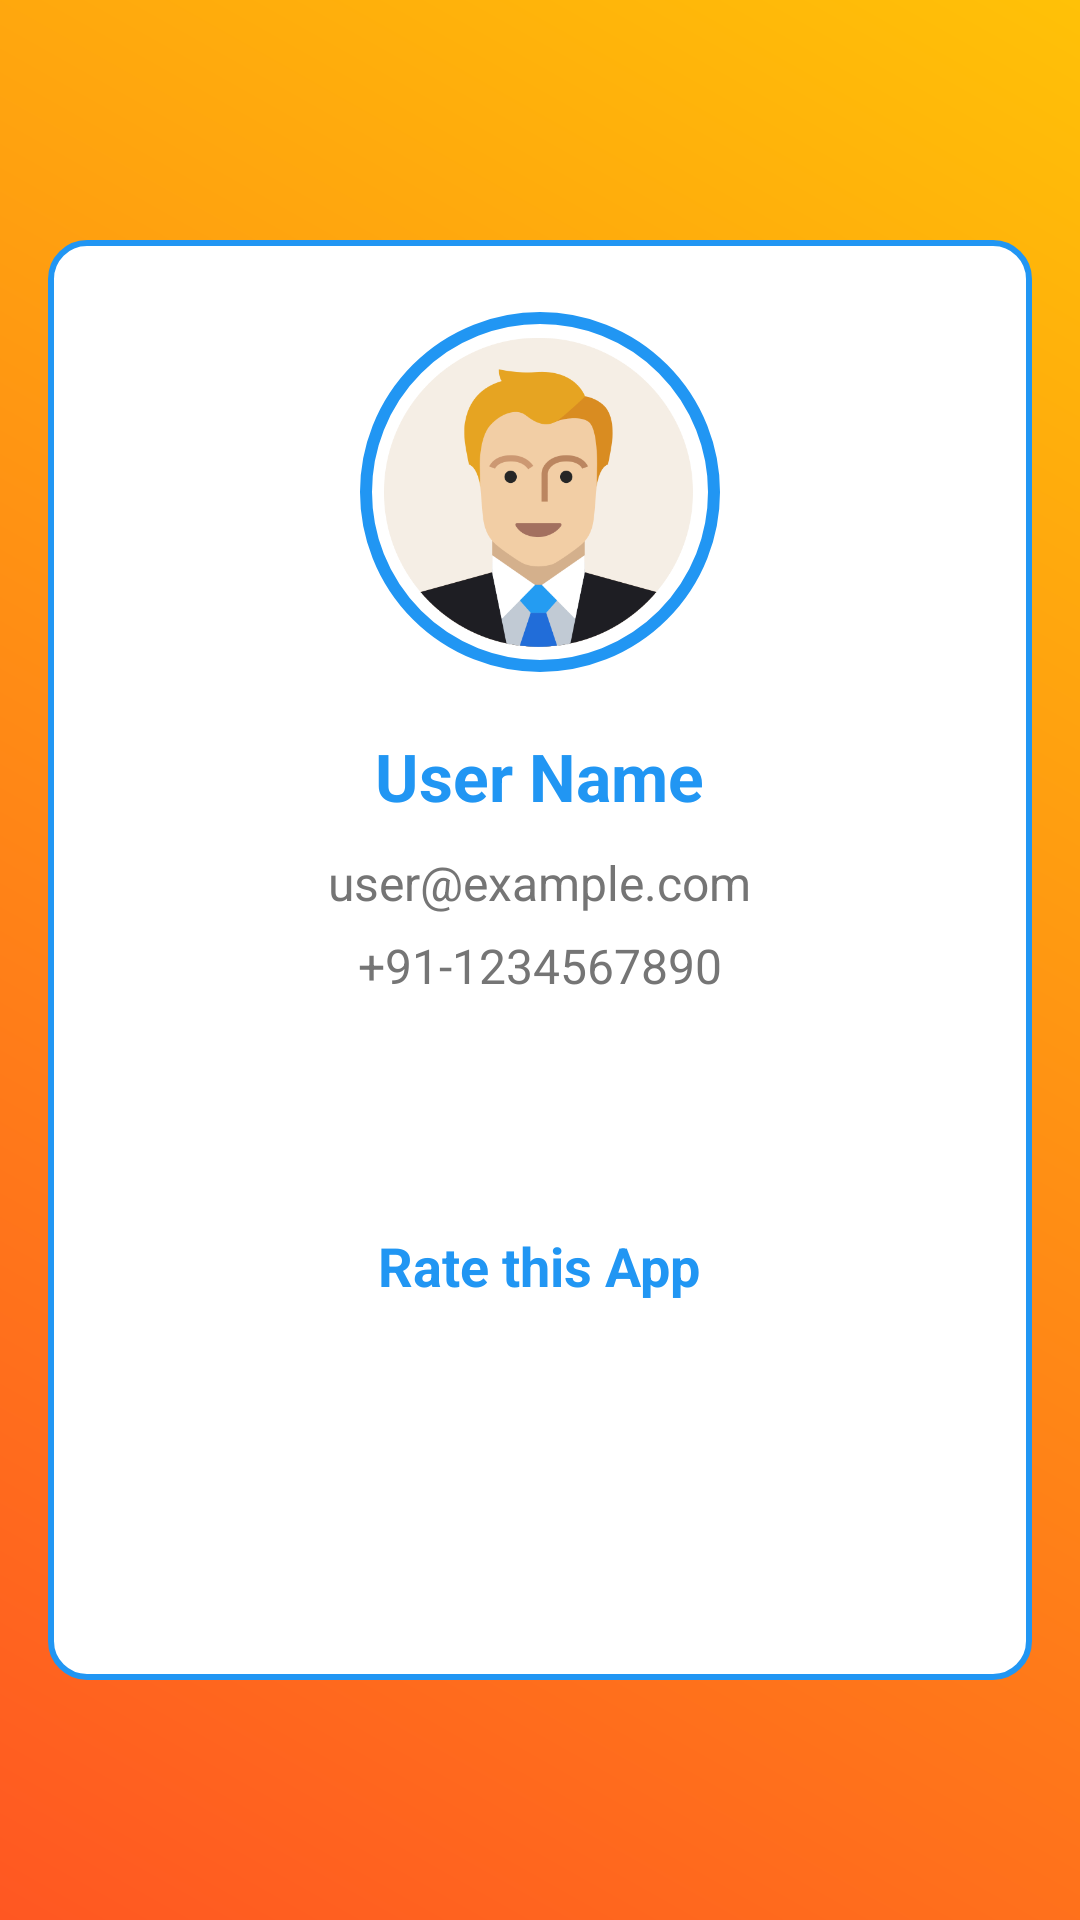

Icons on this 1080 × 1920 Android screen, each with its box as [x1=x1, y1=y1, x2=x2, y2=y2]:
user profile: [x1=360, y1=312, x2=720, y2=672]
